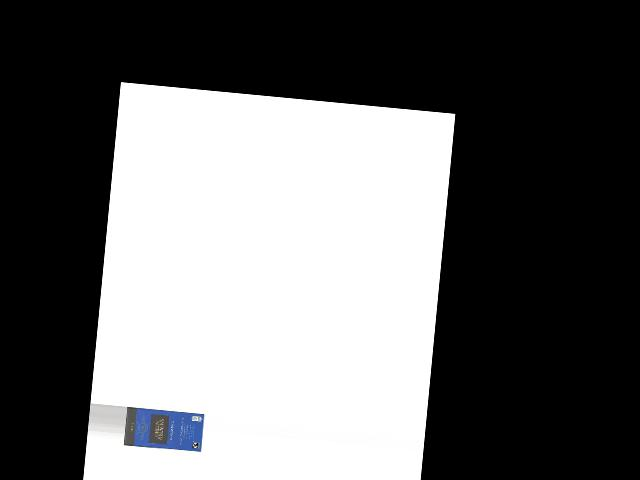chocolate: (123, 406, 203, 452)
